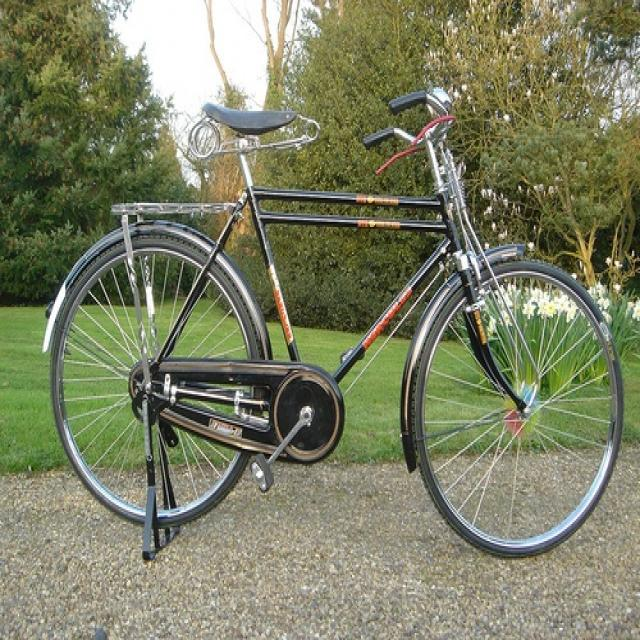bicycle: (37, 86, 623, 564)
